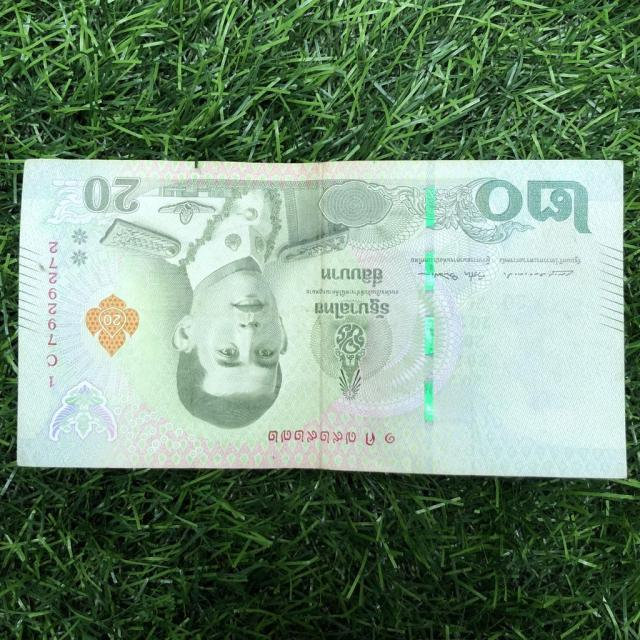THAI20: (18, 160, 626, 479)
